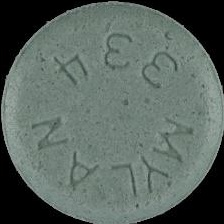0378-0334: (0, 0, 224, 224)
